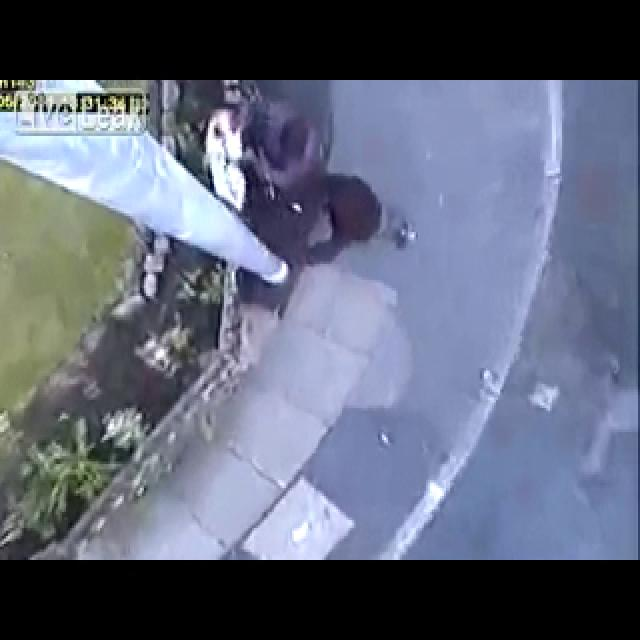vandalism: (187, 87, 404, 283)
